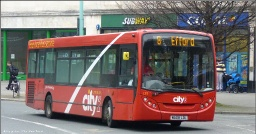bus: (24, 27, 219, 128)
person: (3, 59, 22, 91)
